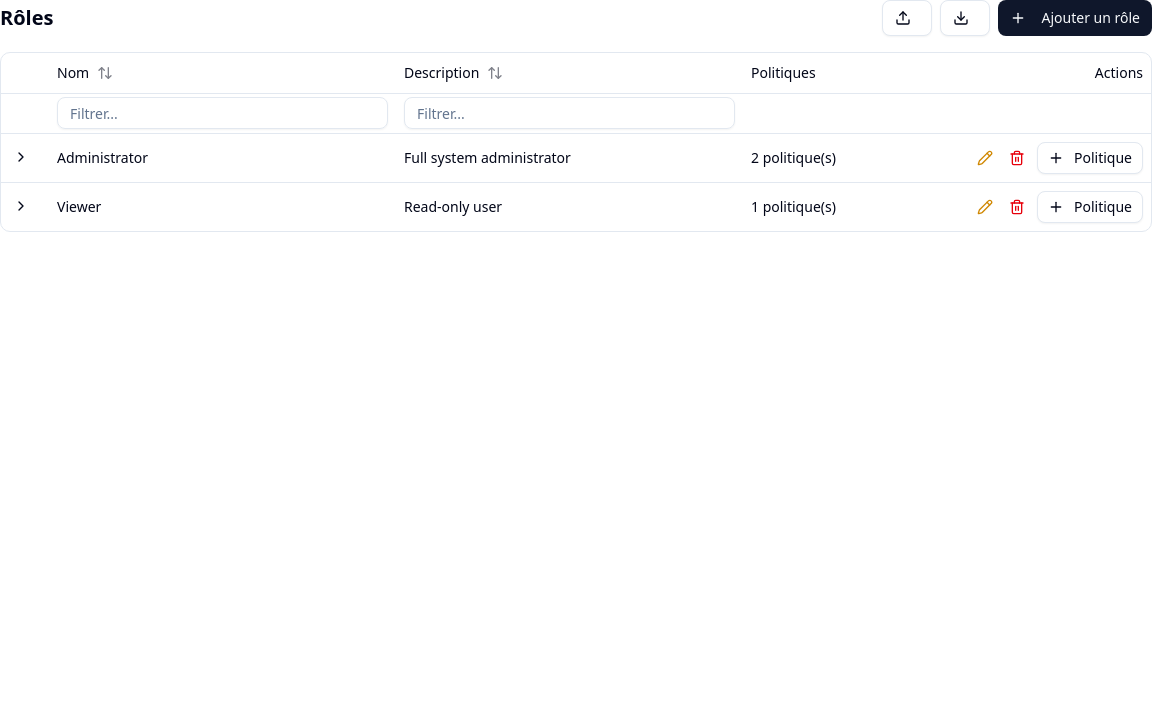
Test case: Roles Component › Role CRUD Operations › should open create role dialog when add button is clicked
Expected: the text "Administrator" is shown, [57,148,148,166]
What coordinates should you click on to do the following:
click the button with test id "roles-add-button"
I would click on:
 (1075, 18)
Its box is [998,0,1151,36].
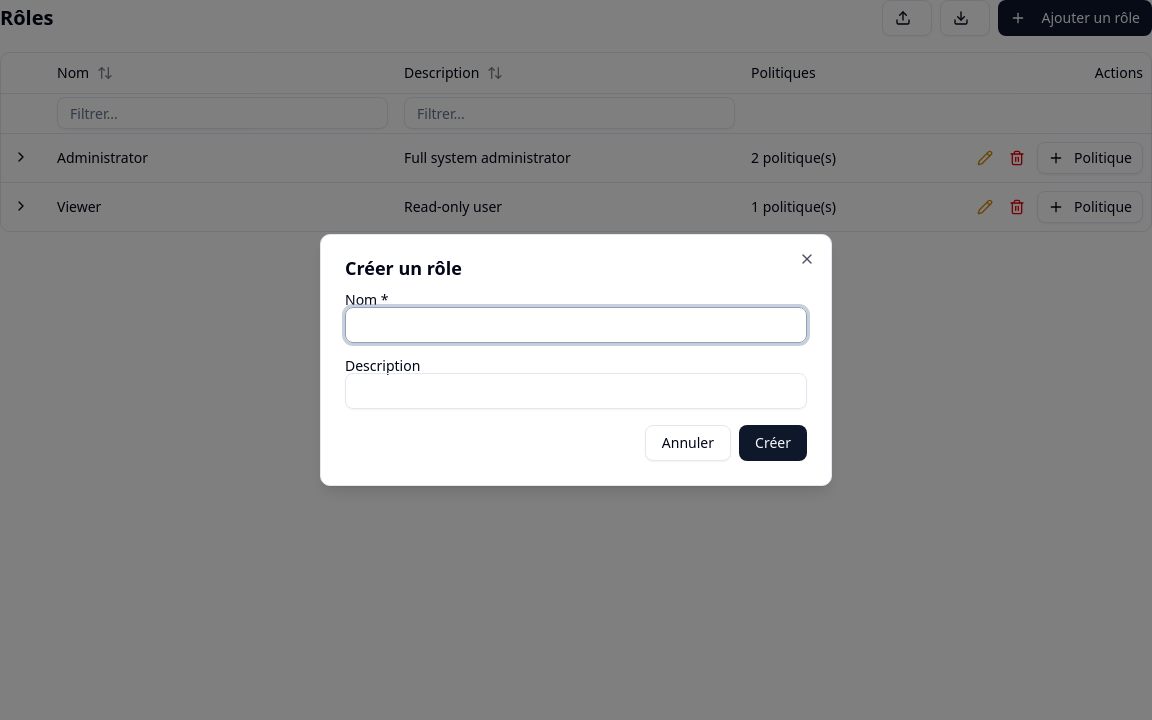
Now the dialog with test id "role-dialog" is shown, box [320,234,832,486]
Now the heading with test id "role-dialog-title" reads "Créer un rôle", box [345,256,462,280]
